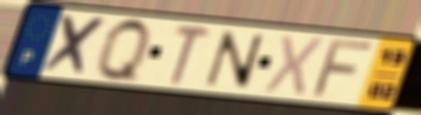F: (308, 38, 380, 100)
N: (203, 29, 266, 92)
Q: (95, 15, 154, 87)
T: (169, 22, 215, 87)
X: (39, 12, 111, 78), (260, 33, 329, 99)
